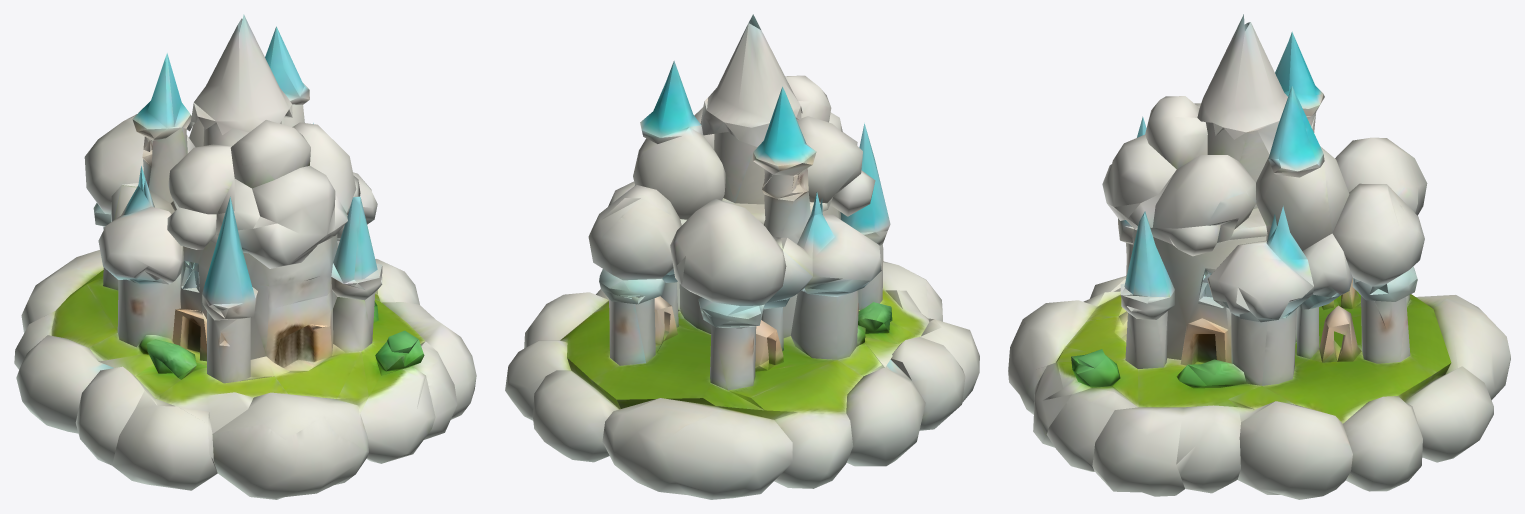
File: m2CloudCastleBg.glb
The picture shows the model from 3 angles, left to right: view 1: azimuth 30°, elevation 25°; view 2: azimuth 150°, elevation 25°; view 3: azimuth 270°, elevation 25°; orthographic projection. The views are drawn at different scales.
Parts seen in each view (by area): view 1: model; view 2: model; view 3: model.
Part boxes in pixels (left/top/right/bottom): model: left=14, top=14, right=476, bottom=499; model: left=505, top=14, right=979, bottom=499; model: left=1008, top=14, right=1510, bottom=499.
Bounding box in the file's own units: 1.72 × 1.71 × 1.89.
Materials: 1 (1 with a texture image).
